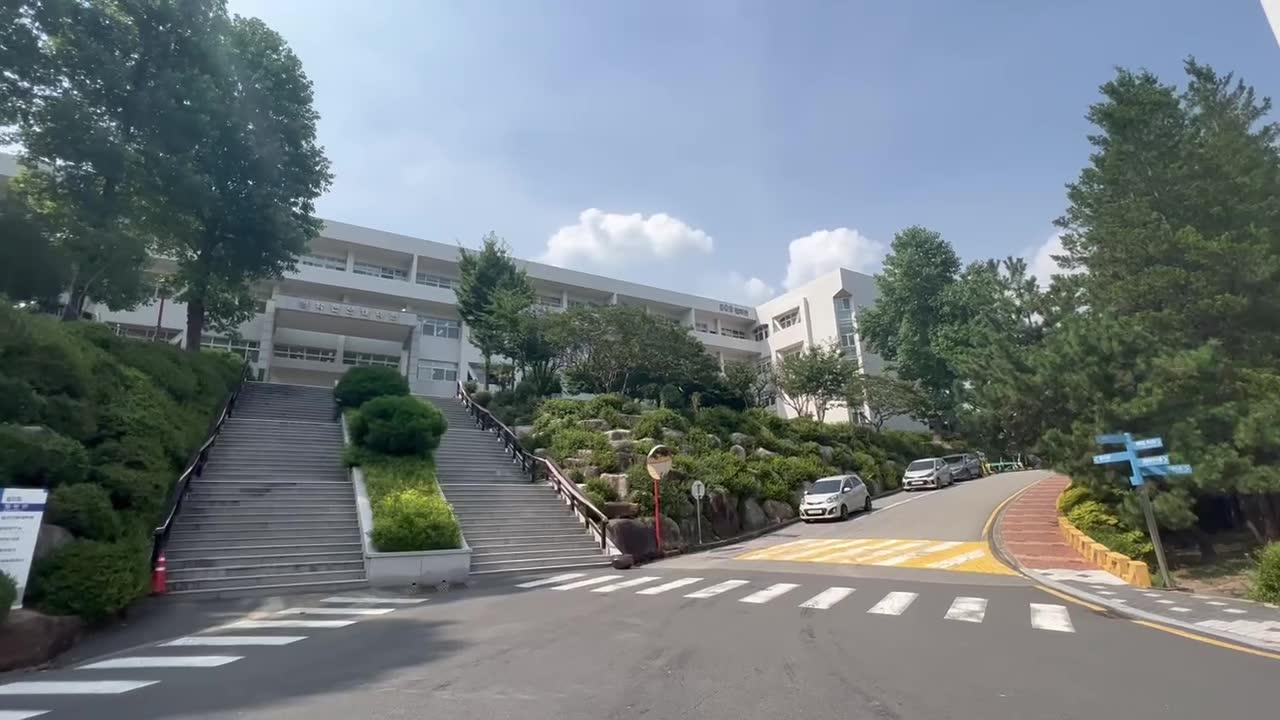building: (298, 213, 457, 381)
